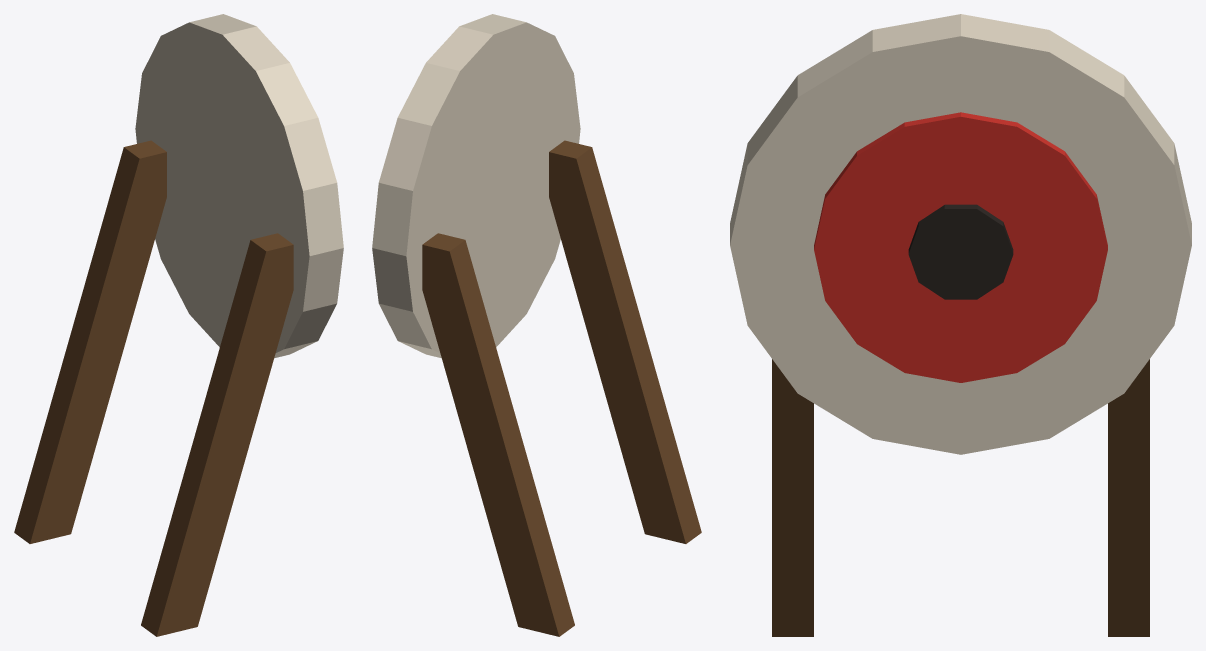
Rendered from target.glb.
3 renders of one model, left to right at view 1: azimuth 30°, elevation 25°; view 2: azimuth 150°, elevation 25°; view 3: azimuth 270°, elevation 25°, orthographic. The views are drawn at different scales.
Visible parts, largest first — view 1: target; view 2: target; view 3: target.
Part boxes in pixels (bbox=[...]): target: bbox=[14, 14, 343, 636]; target: bbox=[372, 14, 701, 636]; target: bbox=[730, 14, 1191, 636].
Bounding box in the file's own units: 0.27 × 0.72 × 0.44.
